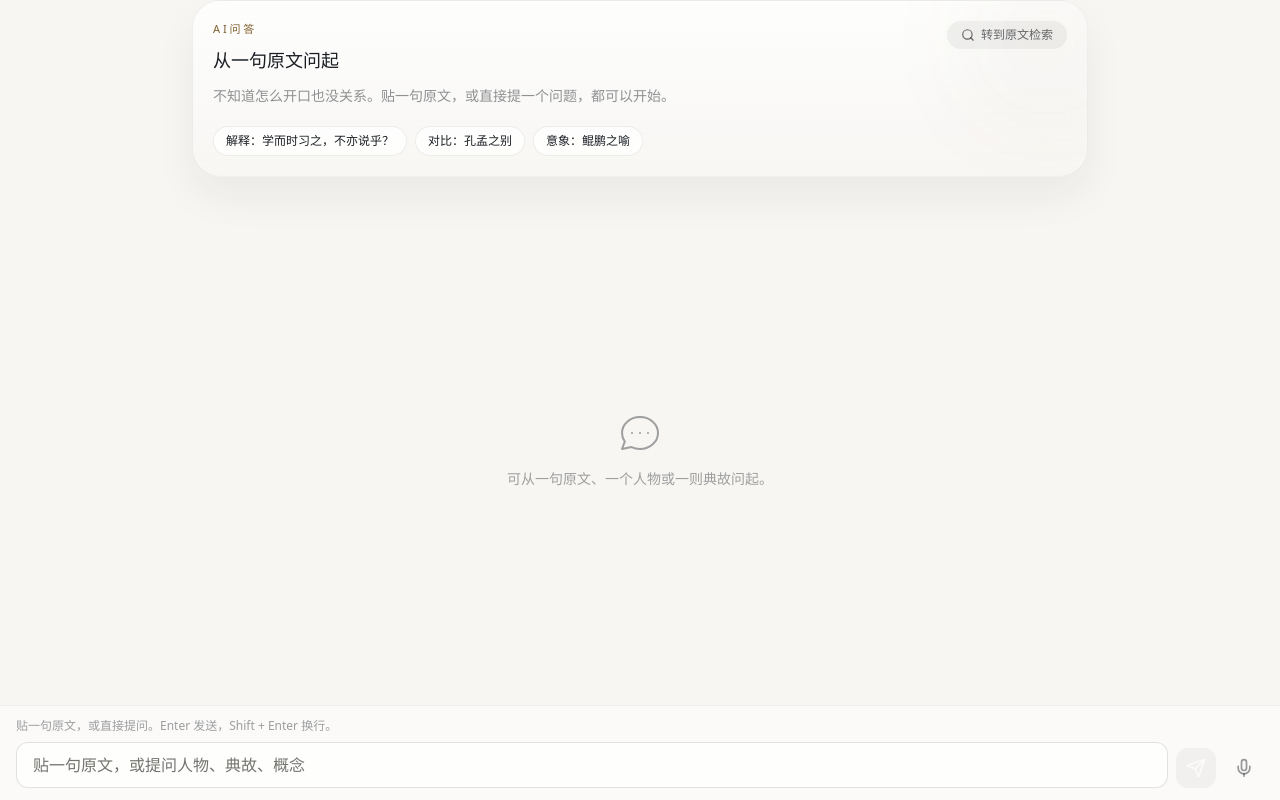
Test: ChatInterface › retries the original prompt from the failure action
Step 1. Type "请再试一次" into the text box → (592, 765), box top-left (16, 742), bottom-right (1168, 788)
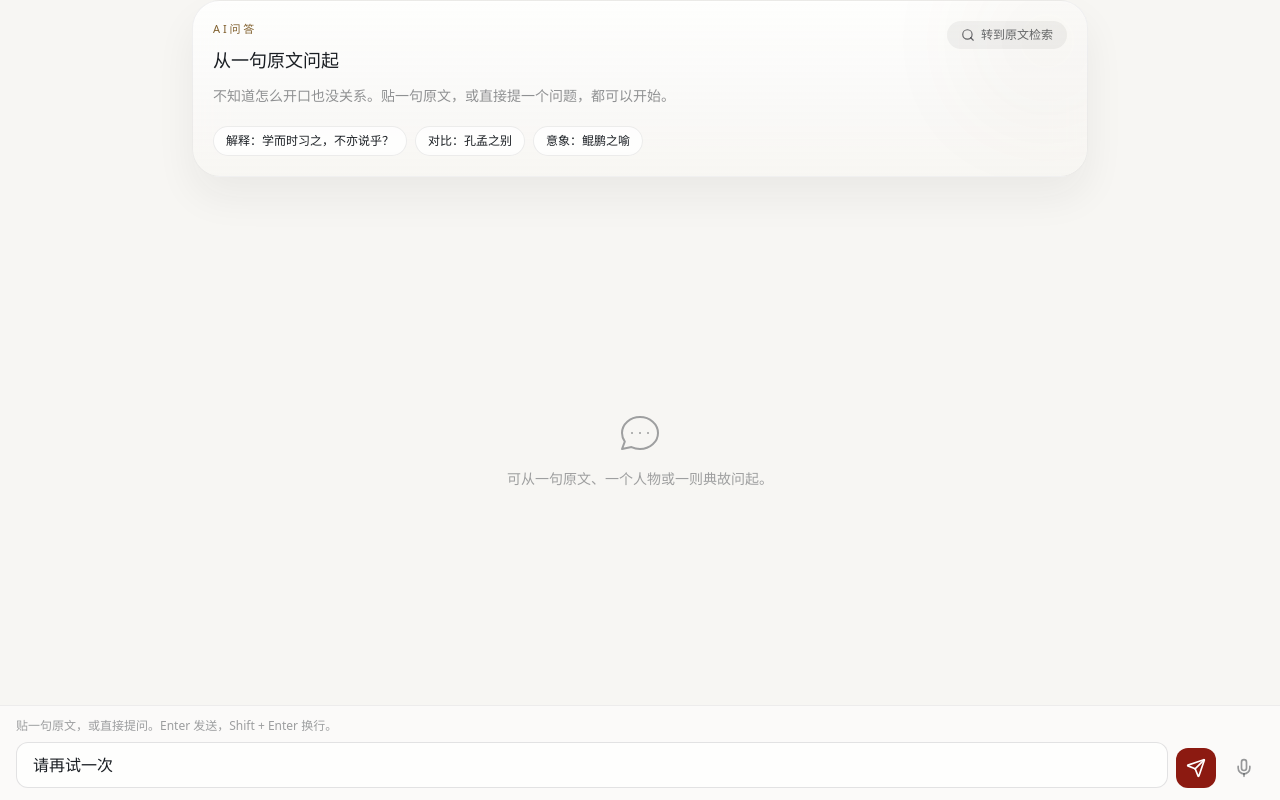
Step 2. Click the button named "发送" → (1196, 768), box top-left (1176, 748), bottom-right (1216, 788)
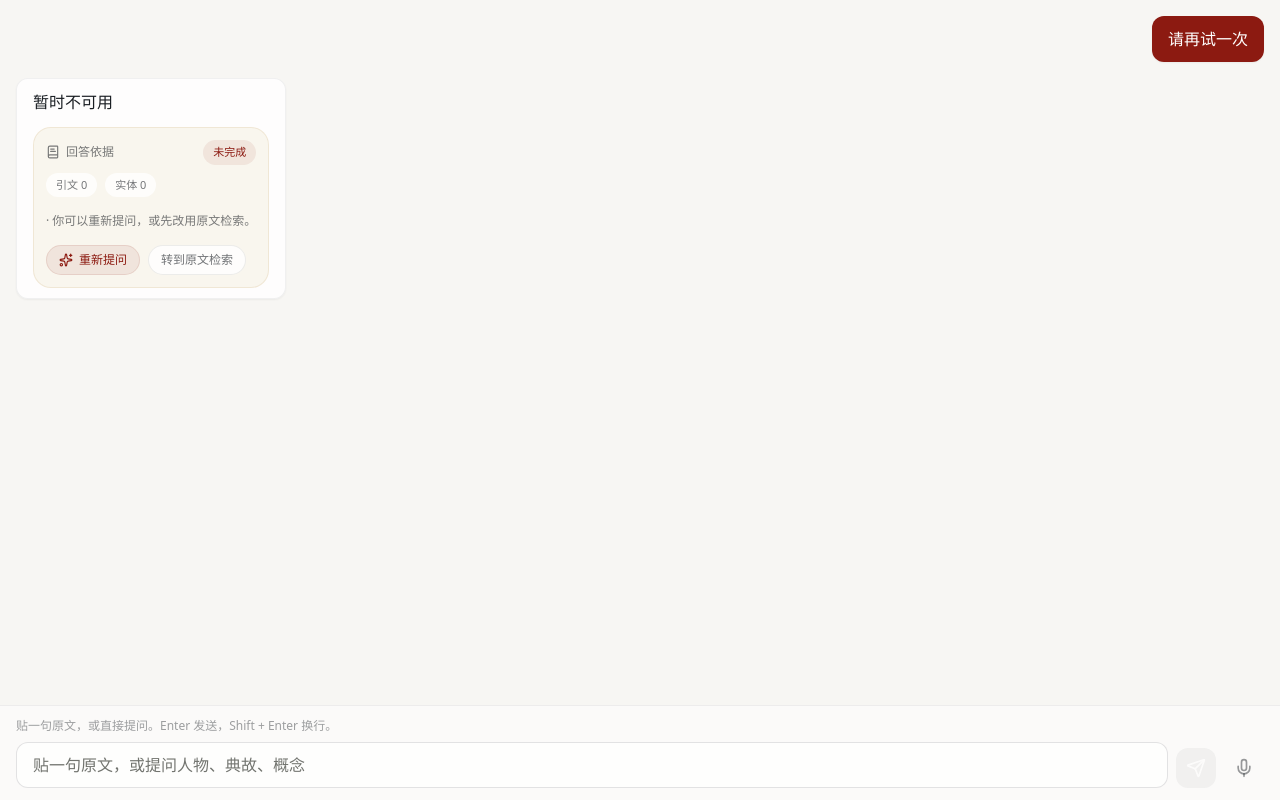
Now the text "暂时不可用" is shown, box top-left (33, 91), bottom-right (113, 113)
Step 3. Click the button "重新提问" → (93, 260), box top-left (46, 245), bottom-right (140, 275)
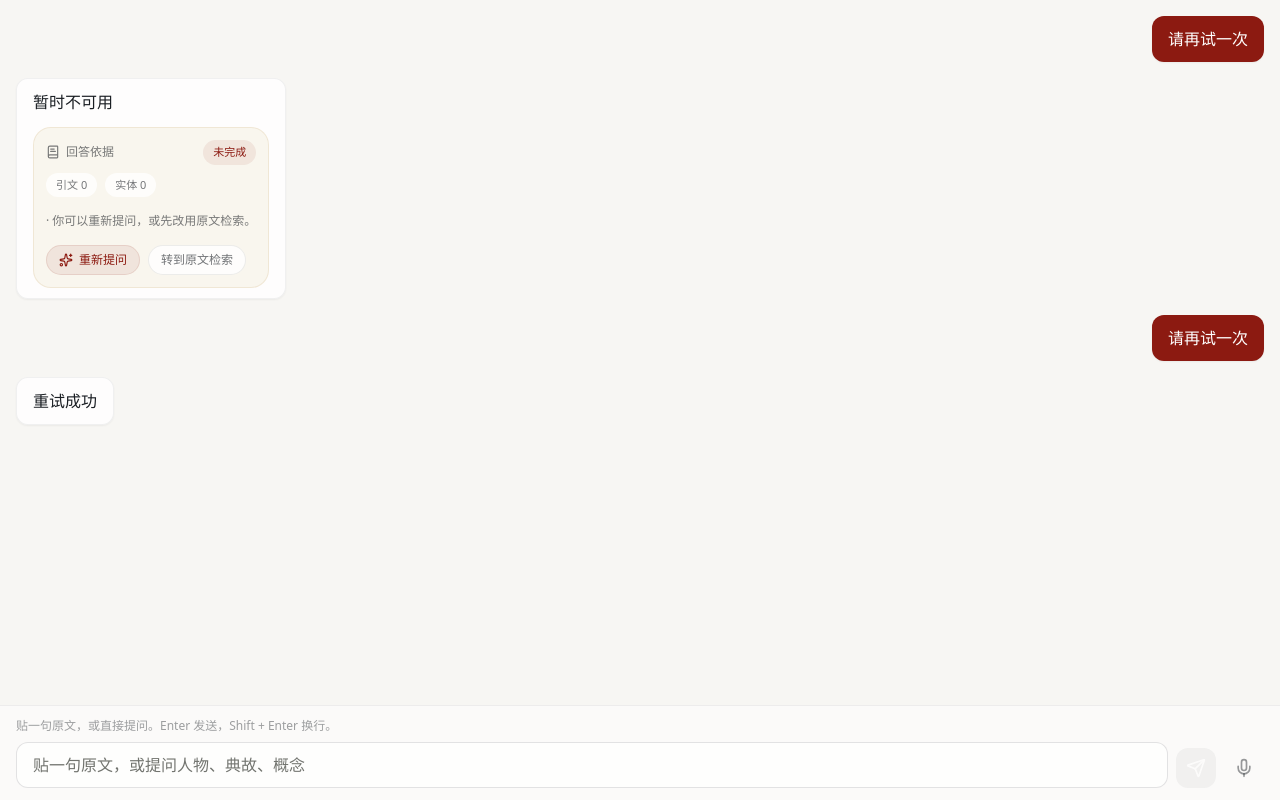
Now the text "重试成功" is shown, box top-left (33, 388), bottom-right (97, 414)
